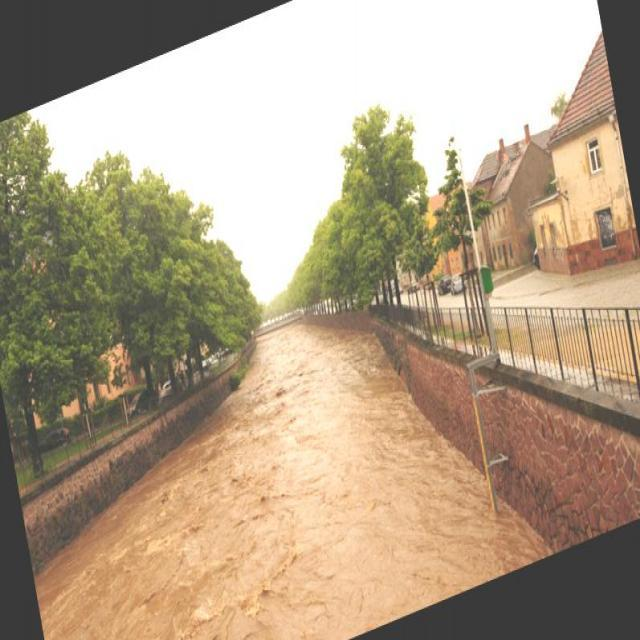flood: (8, 256, 489, 639)
